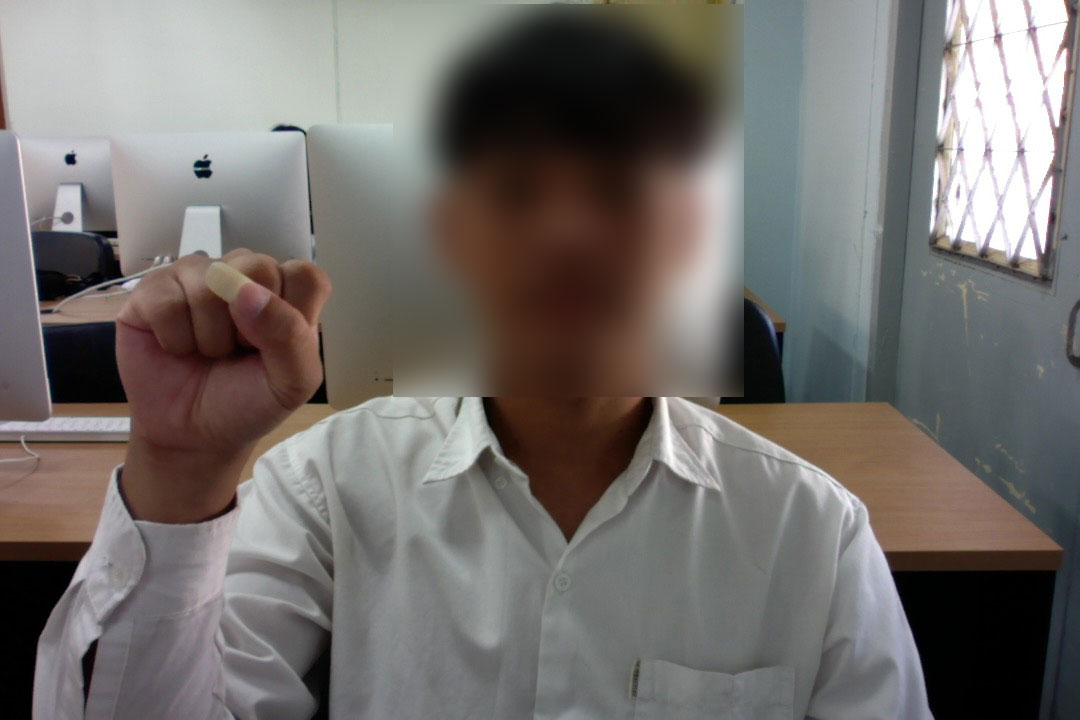sor: (108, 239, 338, 486)
